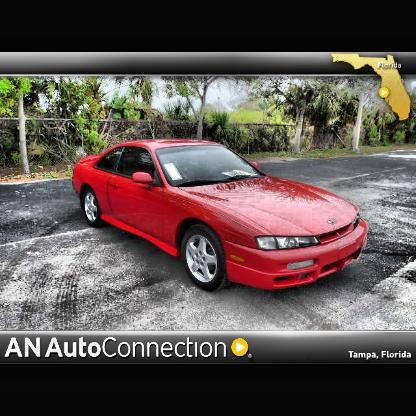Nissan 240SX Coupe 1998: (73, 139, 368, 291)
